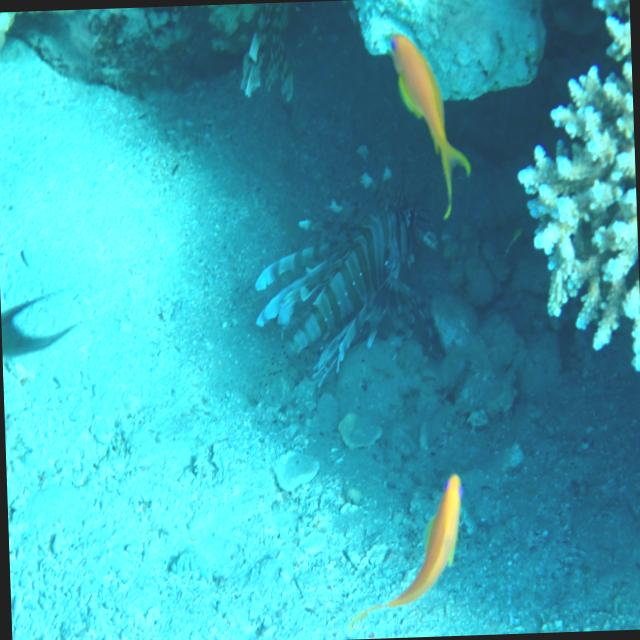Aslan Baligi: (245, 182, 445, 402)
